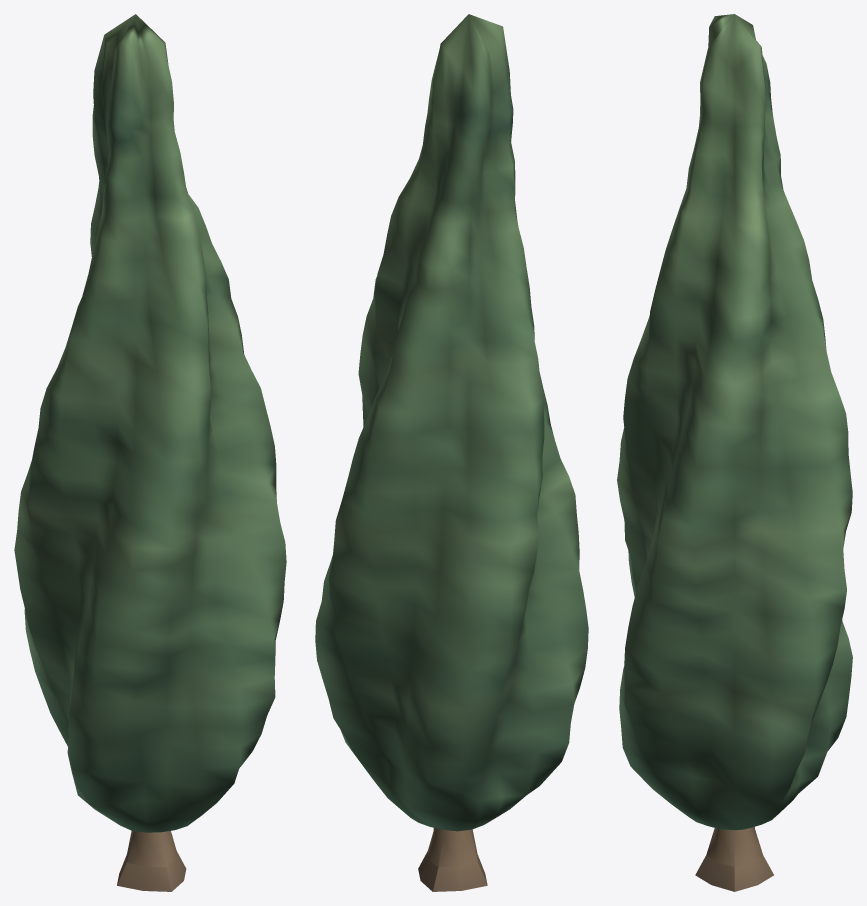
File: cypress_b.glb
3 renders of one model, left to right at view 1: azimuth 30°, elevation 25°; view 2: azimuth 150°, elevation 25°; view 3: azimuth 270°, elevation 25°, orthographic.
Parts seen in each view (by area): view 1: cypress_b; view 2: cypress_b; view 3: cypress_b.
Boxes of the visible parts, x1,y1,x2,y2 form: cypress_b: (14, 14, 286, 891); cypress_b: (315, 14, 588, 891); cypress_b: (617, 14, 852, 891).
Bounding box in the file's own units: 8.95 × 35.7 × 8.94.
